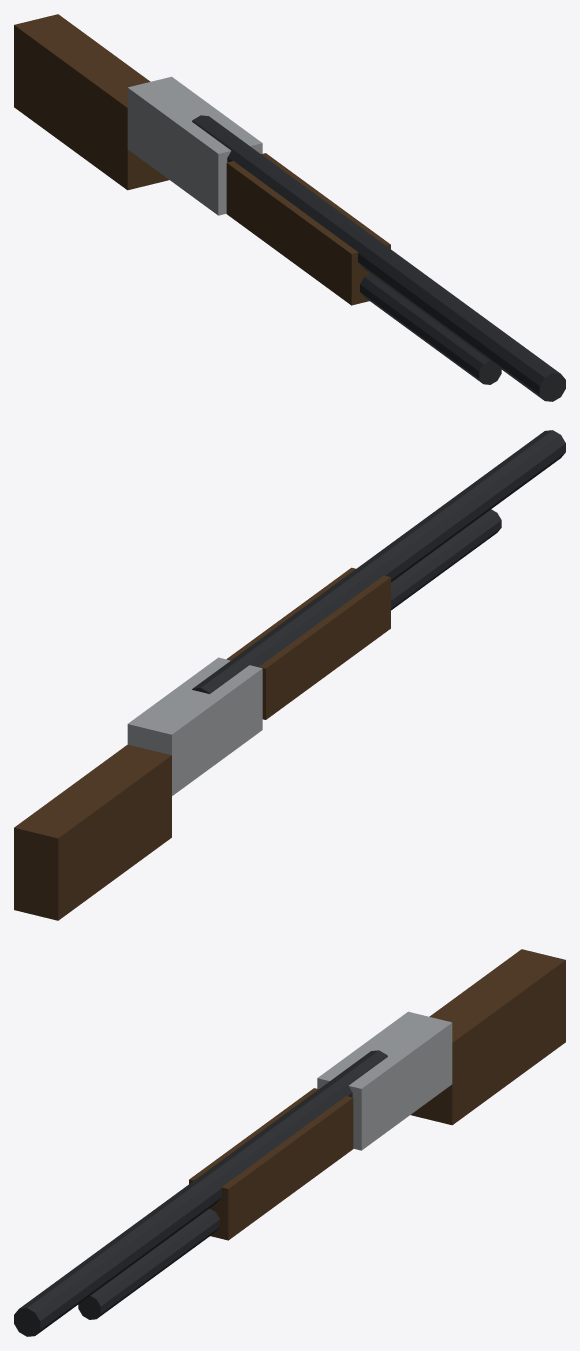
Rendered from WPN_Shotgun01.glb.
The picture shows the model from 3 angles, top to bottom: view 1: azimuth 30°, elevation 25°; view 2: azimuth 150°, elevation 25°; view 3: azimuth 330°, elevation 25°; orthographic projection.
Parts seen in each view (by area): view 1: WPN_Shotgun01_Stock, WPN_Shotgun01_Barrel, WPN_Shotgun01_Receiver, WPN_Shotgun01_Pump, WPN_Shotgun01_Tube; view 2: WPN_Shotgun01_Stock, WPN_Shotgun01_Barrel, WPN_Shotgun01_Receiver, WPN_Shotgun01_Pump, WPN_Shotgun01_Tube; view 3: WPN_Shotgun01_Stock, WPN_Shotgun01_Barrel, WPN_Shotgun01_Receiver, WPN_Shotgun01_Pump, WPN_Shotgun01_Tube.
Part boxes in pixels (<box>): WPN_Shotgun01_Stock: <box>14,14,168,190</box>; WPN_Shotgun01_Barrel: <box>192,115,565,401</box>; WPN_Shotgun01_Receiver: <box>127,76,262,215</box>; WPN_Shotgun01_Pump: <box>226,153,390,305</box>; WPN_Shotgun01_Tube: <box>360,273,501,384</box>; WPN_Shotgun01_Stock: <box>14,744,171,920</box>; WPN_Shotgun01_Barrel: <box>192,430,565,693</box>; WPN_Shotgun01_Receiver: <box>127,657,262,795</box>; WPN_Shotgun01_Pump: <box>226,567,390,719</box>; WPN_Shotgun01_Tube: <box>391,509,501,610</box>; WPN_Shotgun01_Stock: <box>411,949,565,1125</box>; WPN_Shotgun01_Barrel: <box>14,1050,387,1336</box>; WPN_Shotgun01_Receiver: <box>317,1011,452,1150</box>; WPN_Shotgun01_Pump: <box>189,1088,353,1240</box>; WPN_Shotgun01_Tube: <box>78,1208,219,1319</box>.
Bounding box in the file's own units: 0.045 × 0.104 × 0.91.
